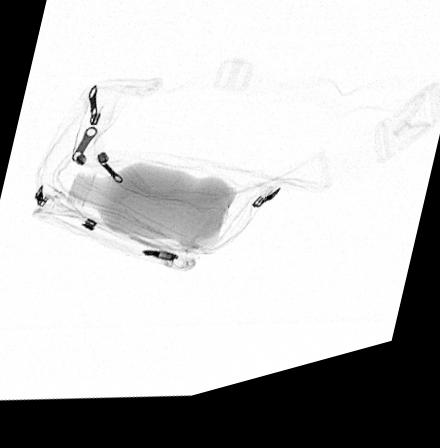Bullet: (140, 258, 176, 270)
